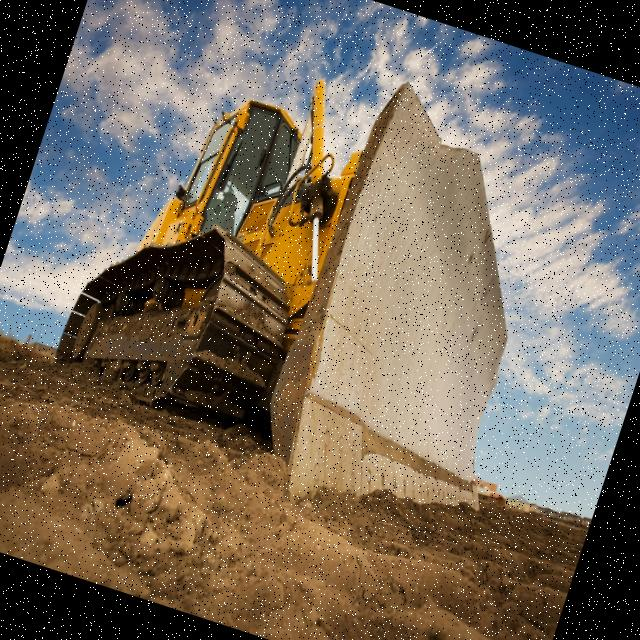Bulldozer: (2, 0, 618, 585)
